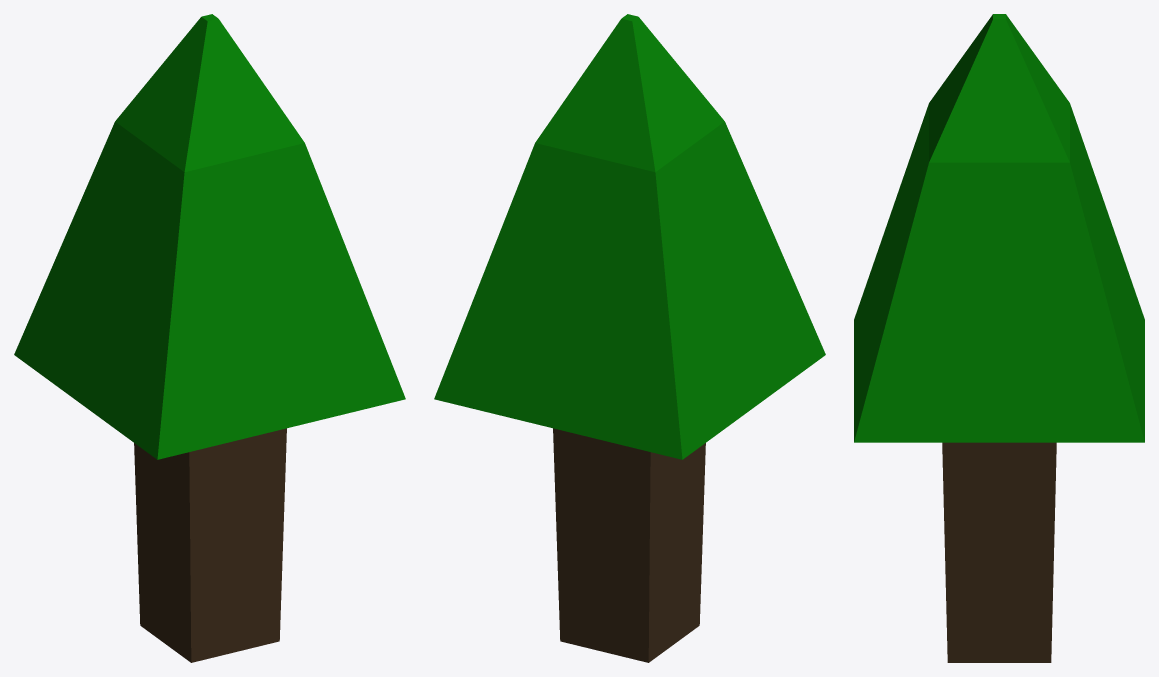
The model's file is PinoLowPoly.fbx.
The picture shows the model from 3 angles, left to right: view 1: azimuth 30°, elevation 25°; view 2: azimuth 150°, elevation 25°; view 3: azimuth 270°, elevation 25°; orthographic projection.
Parts seen in each view (by area): view 1: pCube1; view 2: pCube1; view 3: pCube1.
Boxes of the visible parts, x1,y1,x2,y2 form: pCube1: (14,14,405,662); pCube1: (434,14,825,662); pCube1: (854,14,1144,662).
Size of the model in its own units: 2.06 by 4.89 by 2.06.
